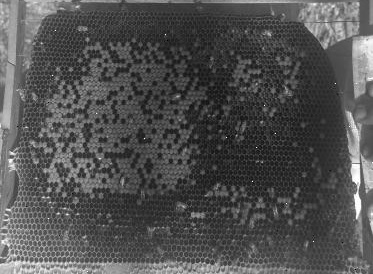cria: (26, 11, 351, 225)
